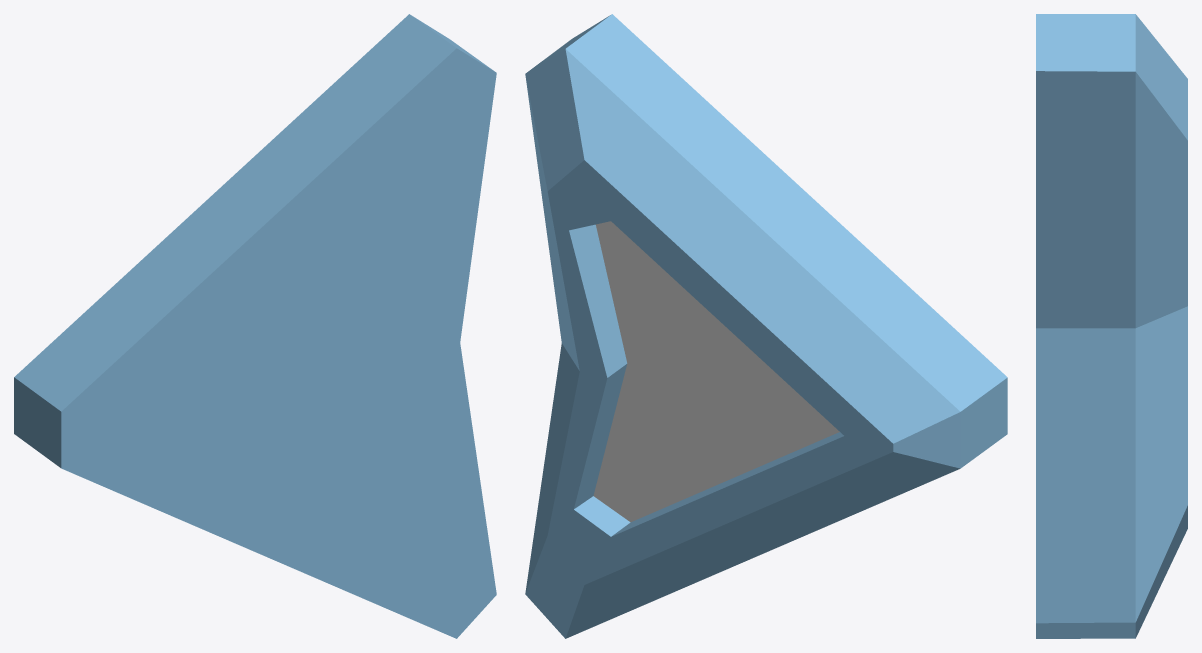
The model's file is EllipticatorArrow.fbx.
3 renders of one model, left to right at view 1: azimuth 30°, elevation 25°; view 2: azimuth 150°, elevation 25°; view 3: azimuth 270°, elevation 25°, orthographic. The views are drawn at different scales.
Parts seen in each view (by area): view 1: Cube; view 2: Cube; view 3: Cube.
Boxes of the visible parts, <box> form: Cube: <box>14,14,496,638</box>; Cube: <box>525,14,1007,638</box>; Cube: <box>1036,14,1187,638</box>.
Size of the model in its own units: 36.84 by 47.75 by 10.52.
